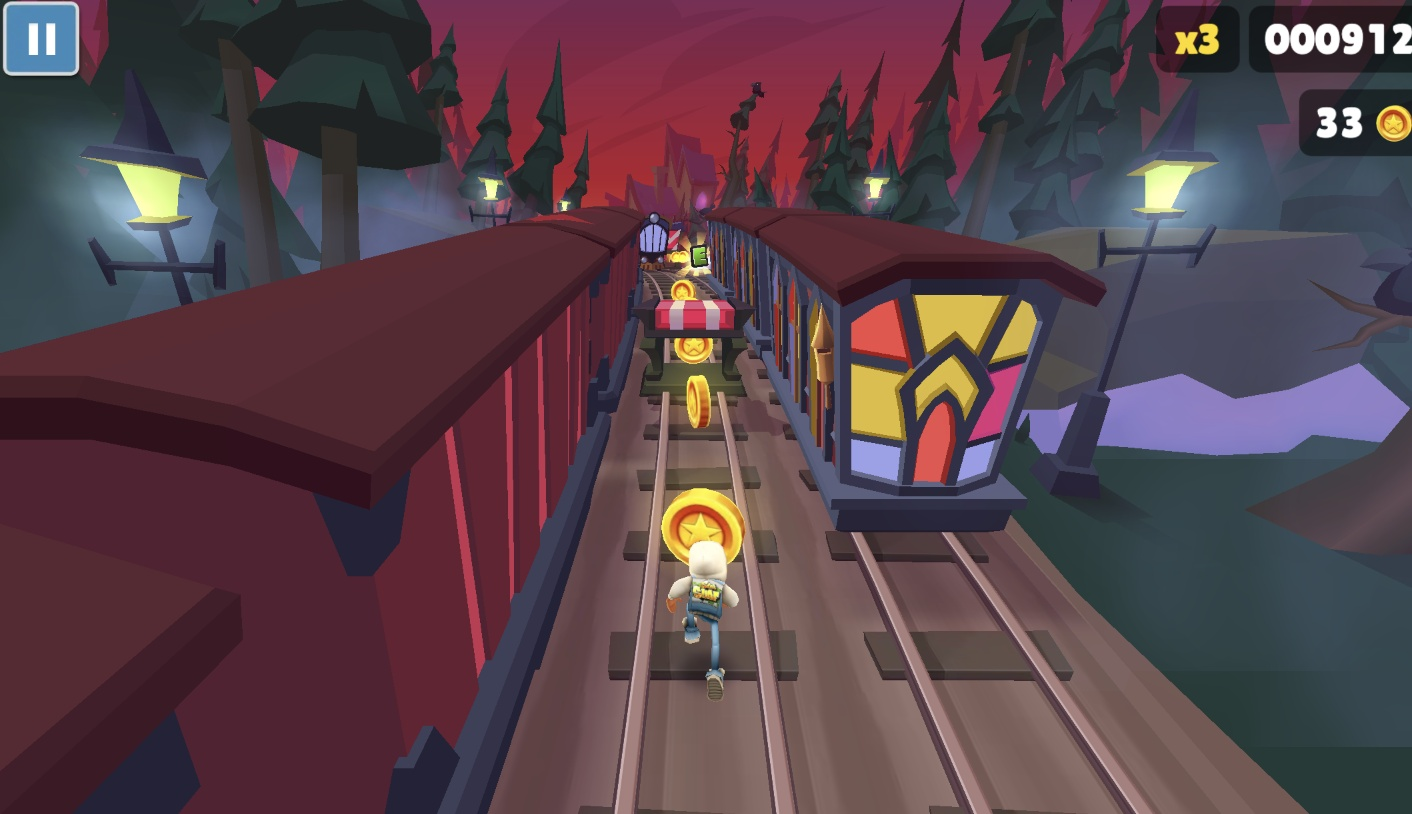ground_barrier: (631, 300, 755, 401)
overhead_barrier: (666, 217, 688, 263)
train: (0, 207, 650, 814), (700, 208, 1132, 548), (639, 211, 681, 272)
